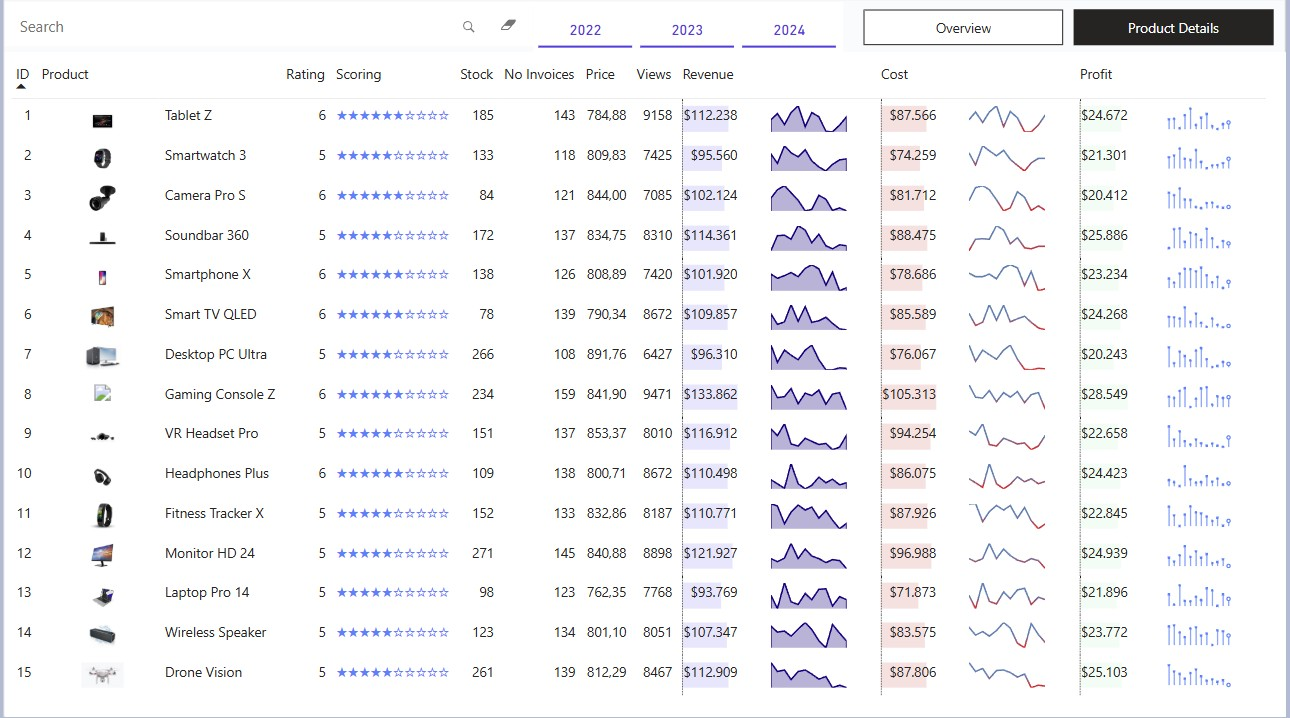

What the dashboard file says about the page in this screenshot:
{"tool":"powerbi","page":{"name":"Product Details","canvas":[1280,720],"ordinal":1},"visuals":[{"type":"tableEx","fields":{"Values":["dimProduct.Product ID","dimProduct.Img","dimProduct.Product","All Measures.Avg Rating","All Measures.Scoring","dimProduct.Stock Quantity","All Measures.No Invoices","Avg(factSalesData.Sales Amount (USD))","All Measures.Views","All Measures.Revenue","All Measures.Revenue Sparkline","All Measures.Cost"]},"box":[13.5,58.9,1257.7,652.8],"z":0},{"type":"advancedSlicerVisual","fields":{"Values":["Calendar.Year"]},"box":[532.5,9.8,304.3,50.3],"z":1000},{"type":"pageNavigator","box":[856.4,17.2,403.7,35.6],"z":2000},{"type":"textFilter25A4896A83E0487089E2B90C9AE57C8A","fields":{"field":["dimProduct.Product"]},"box":[13.5,9.8,519,42.9],"z":3000}]}

Visuals, with their boxes in screenshot pixels (x1, y1, x2, y2), scaled from the page's 1280x720 canvas onto the 1290x718 screenshot:
tableEx - dimProduct.Product ID x dimProduct.Img: {"x1": 14, "y1": 59, "x2": 1281, "y2": 710}
advancedSlicerVisual - Calendar.Year: {"x1": 537, "y1": 10, "x2": 843, "y2": 60}
pageNavigator: {"x1": 863, "y1": 17, "x2": 1270, "y2": 53}
textFilter25A4896A83E0487089E2B90C9AE57C8A - dimProduct.Product: {"x1": 14, "y1": 10, "x2": 537, "y2": 53}
